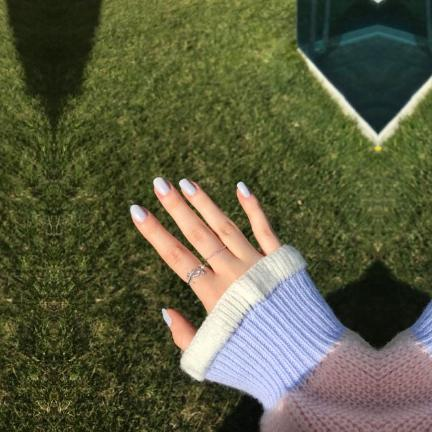Nail: (153, 176, 170, 195), (130, 204, 147, 222), (179, 178, 196, 195), (236, 181, 251, 197), (161, 308, 172, 327)
